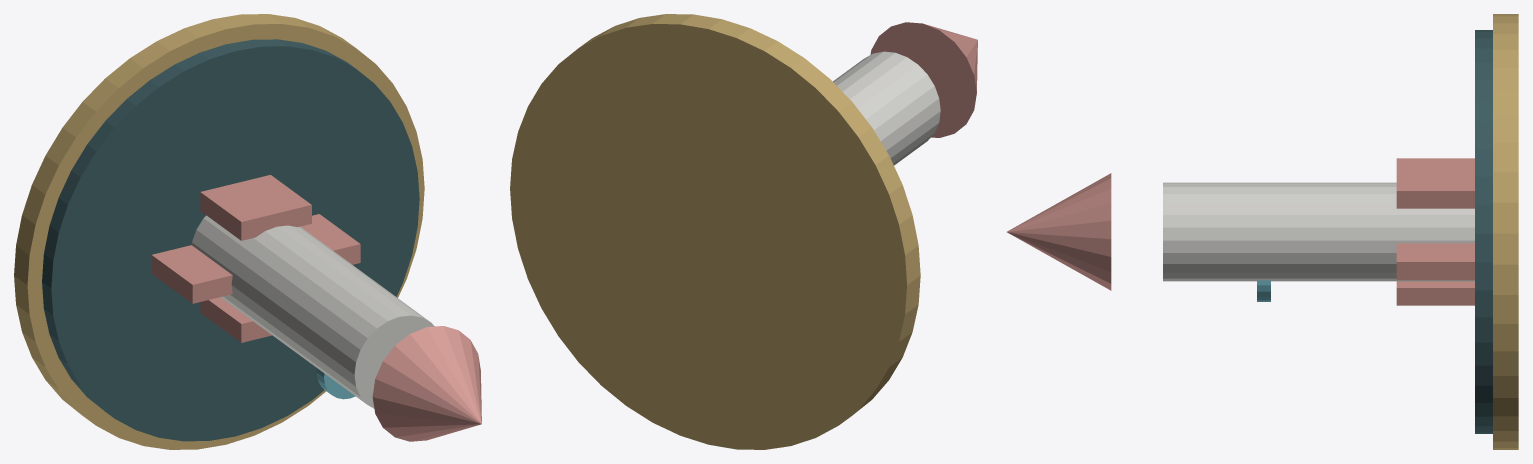
Rendered from sky_rocket.glb.
3 views of the same model, side by side, from view 1: azimuth 30°, elevation 25°; view 2: azimuth 150°, elevation 25°; view 3: azimuth 270°, elevation 25° (orthographic). The views are drawn at different scales.
Parts seen in each view (by area): view 1: obsidian-plinth, gold-plinth, rocket-body, rocket-tip, fin-1, fin-2, fin-3, fin-0, rocket-window; view 2: gold-plinth, rocket-body, rocket-tip; view 3: rocket-body, gold-plinth, obsidian-plinth, rocket-tip, fin-1, fin-0, fin-3.
Part boxes in pixels (x1=…): obsidian-plinth: x1=42, y1=39, x2=419, y2=441; gold-plinth: x1=14, y1=14, x2=424, y2=449; rocket-body: x1=191, y1=215, x2=434, y2=408; rocket-tip: x1=372, y1=326, x2=481, y2=441; fin-1: x1=200, y1=175, x2=311, y2=240; fin-2: x1=151, y1=245, x2=232, y2=303; fin-3: x1=200, y1=297, x2=271, y2=342; fin-0: x1=300, y1=214, x2=360, y2=264; rocket-window: x1=316, y1=368, x2=355, y2=399; gold-plinth: x1=510, y1=14, x2=920, y2=449; rocket-body: x1=832, y1=51, x2=940, y2=165; rocket-tip: x1=870, y1=22, x2=977, y2=137; rocket-body: x1=1163, y1=182, x2=1474, y2=281; gold-plinth: x1=1493, y1=14, x2=1518, y2=449; obsidian-plinth: x1=1475, y1=30, x2=1492, y2=433; rocket-tip: x1=1007, y1=173, x2=1111, y2=290; fin-1: x1=1396, y1=158, x2=1474, y2=208; fin-0: x1=1396, y1=243, x2=1474, y2=279; fin-3: x1=1396, y1=281, x2=1474, y2=305.
Bounding box in the file's own units: 2.2 × 2.2 × 2.58.
